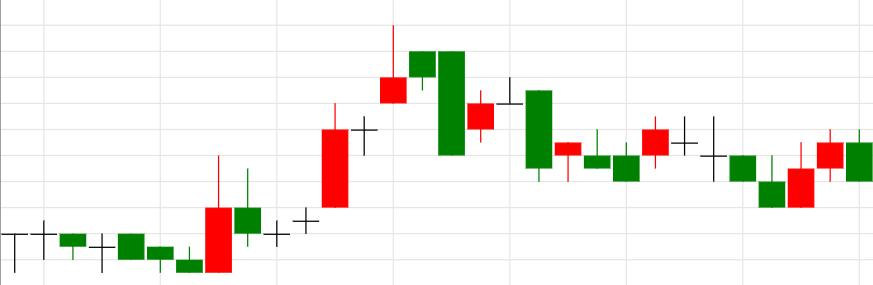bullish_engulfing_rise: (0, 156, 233, 272), (641, 114, 815, 209)
shooting_star_fall: (264, 24, 408, 246)
